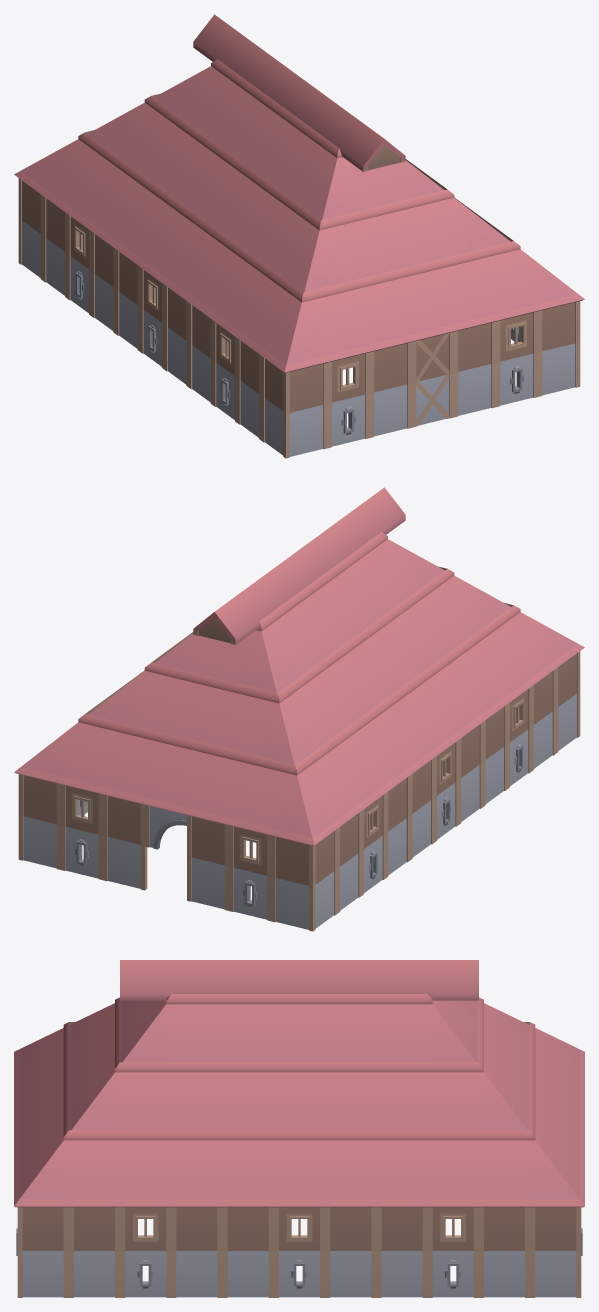
File: hall.glb
The picture shows the model from 3 angles, top to bottom: view 1: azimuth 30°, elevation 25°; view 2: azimuth 150°, elevation 25°; view 3: azimuth 270°, elevation 25°; orthographic projection. The views are drawn at different scales.
Parts seen in each view (by area): view 1: merged; view 2: merged; view 3: merged.
Boxes of the visible parts, x1,y1,x2,y2 form: merged: (14, 14, 584, 458); merged: (14, 487, 584, 931); merged: (14, 960, 584, 1297).
Size of the model in its own units: 28.56 by 22.56 by 44.57.
